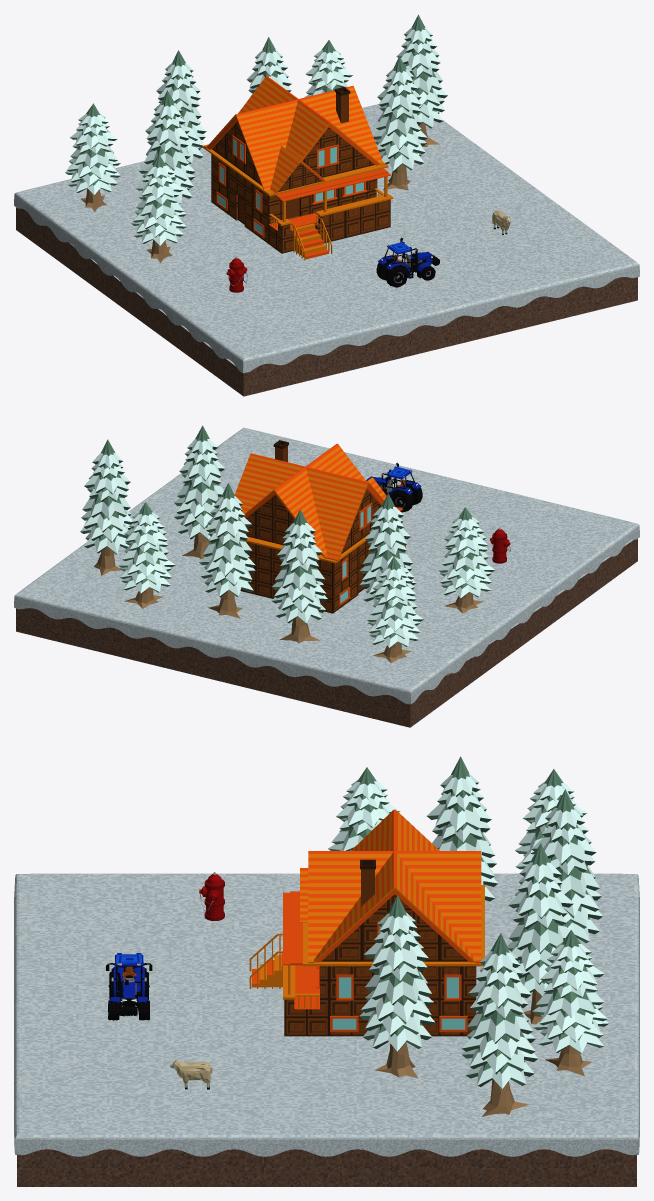
The picture shows the model from 3 angles, top to bottom: view 1: azimuth 30°, elevation 25°; view 2: azimuth 150°, elevation 25°; view 3: azimuth 270°, elevation 25°; orthographic projection. The views are drawn at different scales.
Visible parts, largest first — view 1: Cube.003, Cube, VEHICLES_TRACTOR, OBJRANDOM_FIRE_HYDRANT; view 2: Cube.003, Cube, VEHICLES_TRACTOR, OBJRANDOM_FIRE_HYDRANT; view 3: Cube.003, Cube, VEHICLES_TRACTOR, OBJRANDOM_FIRE_HYDRANT, ANIMAL_OVEJA.
Part boxes in pixels (bbox=[...]): Cube.003: bbox=[14, 14, 639, 396]; Cube: bbox=[202, 76, 393, 260]; VEHICLES_TRACTOR: bbox=[376, 237, 439, 287]; OBJRANDOM_FIRE_HYDRANT: bbox=[226, 256, 247, 292]; Cube.003: bbox=[14, 425, 639, 727]; Cube: bbox=[234, 440, 405, 613]; VEHICLES_TRACTOR: bbox=[366, 462, 422, 512]; OBJRANDOM_FIRE_HYDRANT: bbox=[490, 527, 510, 563]; Cube.003: bbox=[14, 756, 639, 1186]; Cube: bbox=[249, 809, 484, 1036]; VEHICLES_TRACTOR: bbox=[106, 953, 152, 1020]; OBJRANDOM_FIRE_HYDRANT: bbox=[199, 872, 224, 920]; ANIMAL_OVEJA: bbox=[170, 1059, 212, 1089].
Size of the model in its own units: 4040 by 1844 by 4040.
29 materials, 4 textured.
